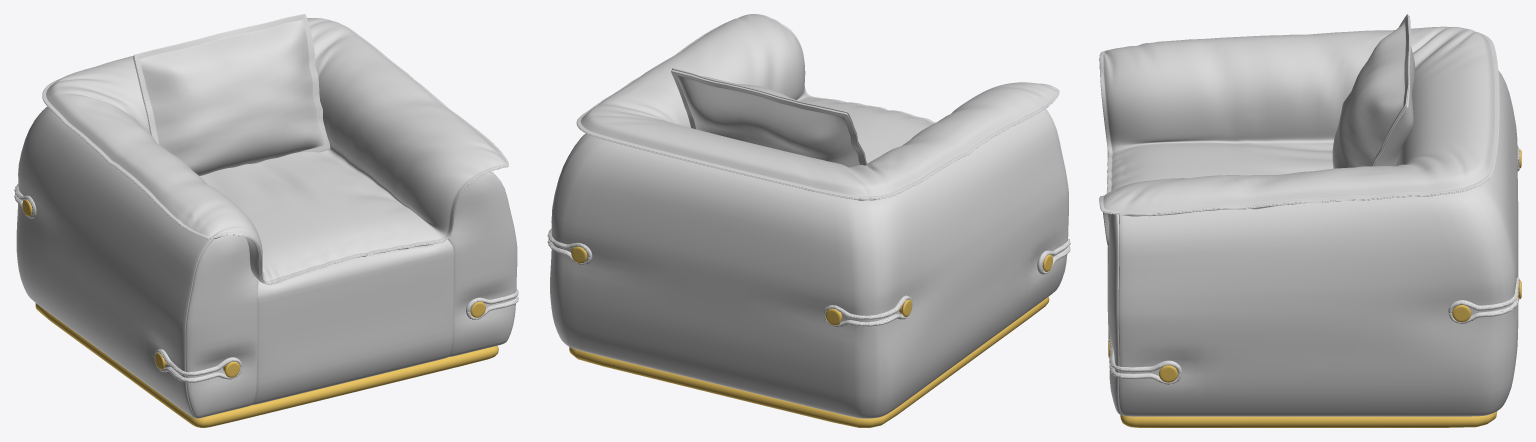
File: SLN_GRAND-THEORY-1_1STR.glb
3 renders of one model, left to right at view 1: azimuth 30°, elevation 25°; view 2: azimuth 150°, elevation 25°; view 3: azimuth 270°, elevation 25°, orthographic. The views are drawn at different scales.
Parts seen in each view (by area): view 1: GRAND THEORY 1_1STR; view 2: GRAND THEORY 1_1STR; view 3: GRAND THEORY 1_1STR.
Part boxes in pixels (<box>): GRAND THEORY 1_1STR: <box>14,14,518,427</box>; GRAND THEORY 1_1STR: <box>547,14,1070,427</box>; GRAND THEORY 1_1STR: <box>1099,14,1521,427</box>.
Size of the model in its own units: 1.12 by 0.84 by 1.11.
